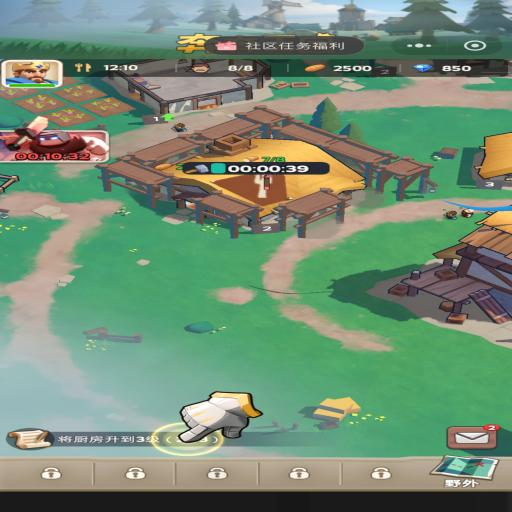newcomer_hand: (176, 390, 261, 442)
